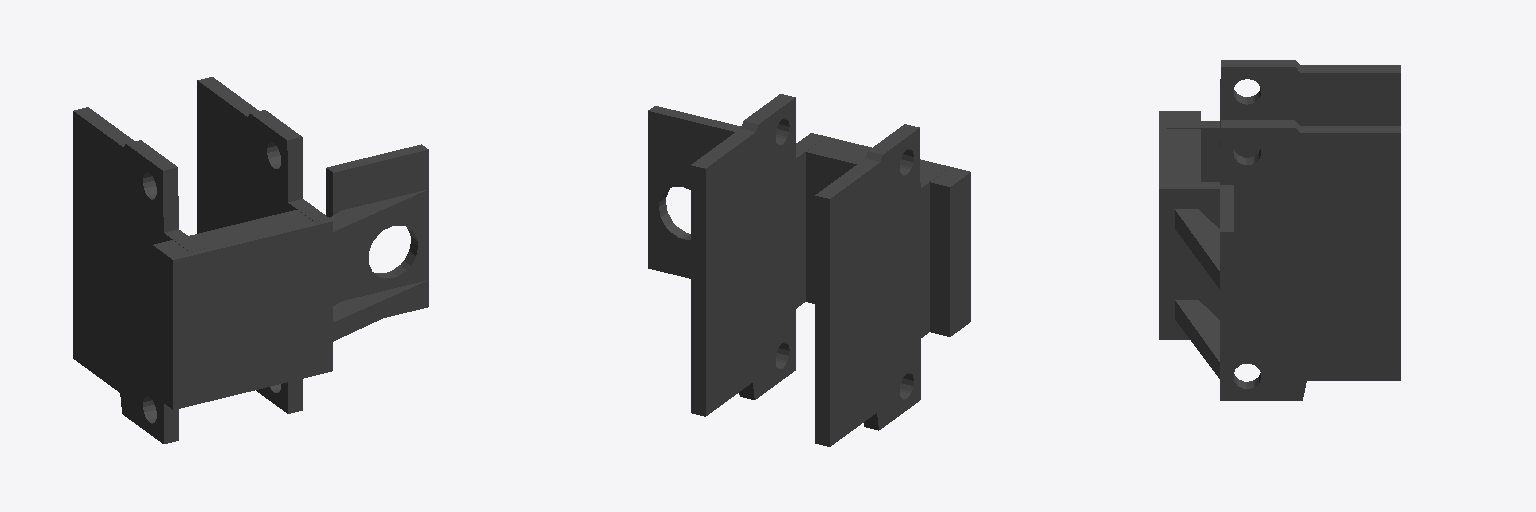
3 renders of one model, left to right at view 1: azimuth 30°, elevation 25°; view 2: azimuth 150°, elevation 25°; view 3: azimuth 270°, elevation 25°, orthographic.
Bounding box in the file's own units: 0.0654 × 0.0597 × 0.0479.
Materials: 1 (1 with a texture image).